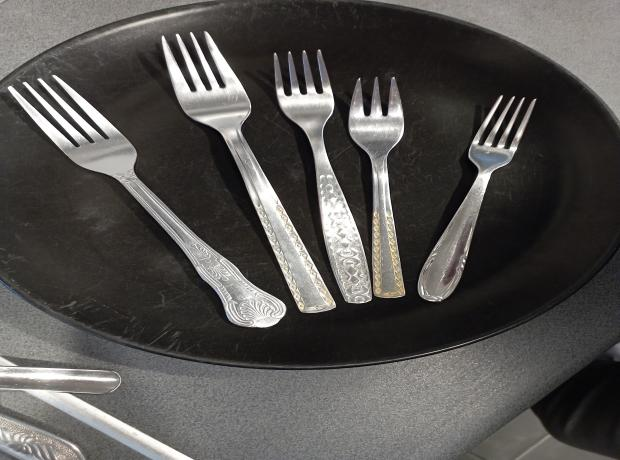metal: (0, 73, 289, 329), (152, 29, 335, 317), (270, 49, 374, 304), (419, 95, 541, 305), (346, 75, 409, 300)
